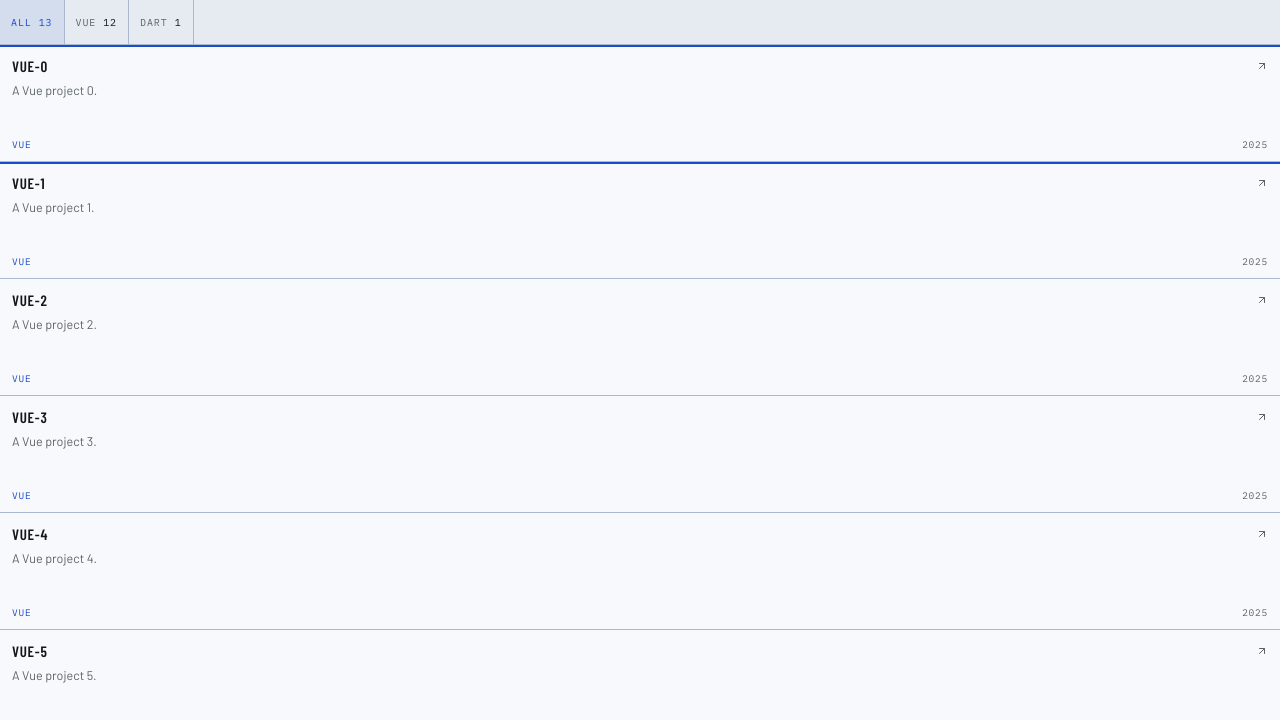
RepositoryBrowser › filters to the clicked language and drops the rest
Click the button "Dart 1" at [161, 22], box [129, 0, 194, 44]
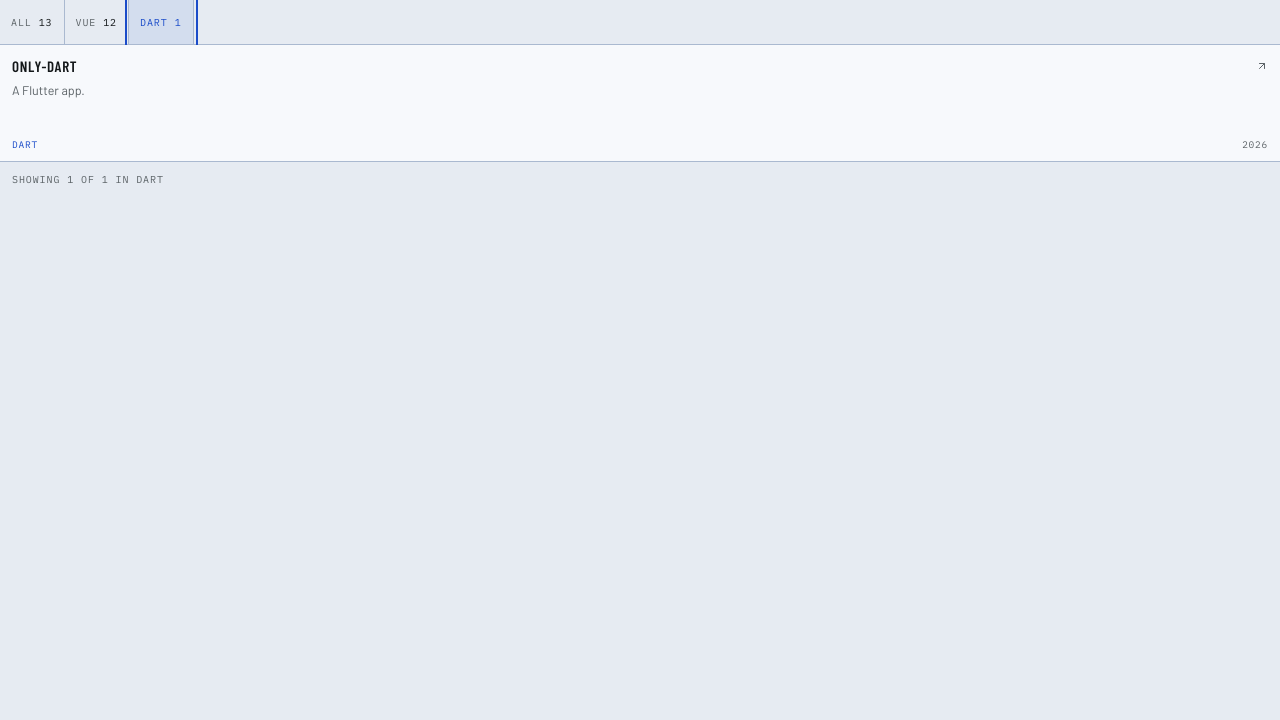
Check: the text "Showing 1 of 1 in Dart" is shown, box [12, 173, 164, 186]
